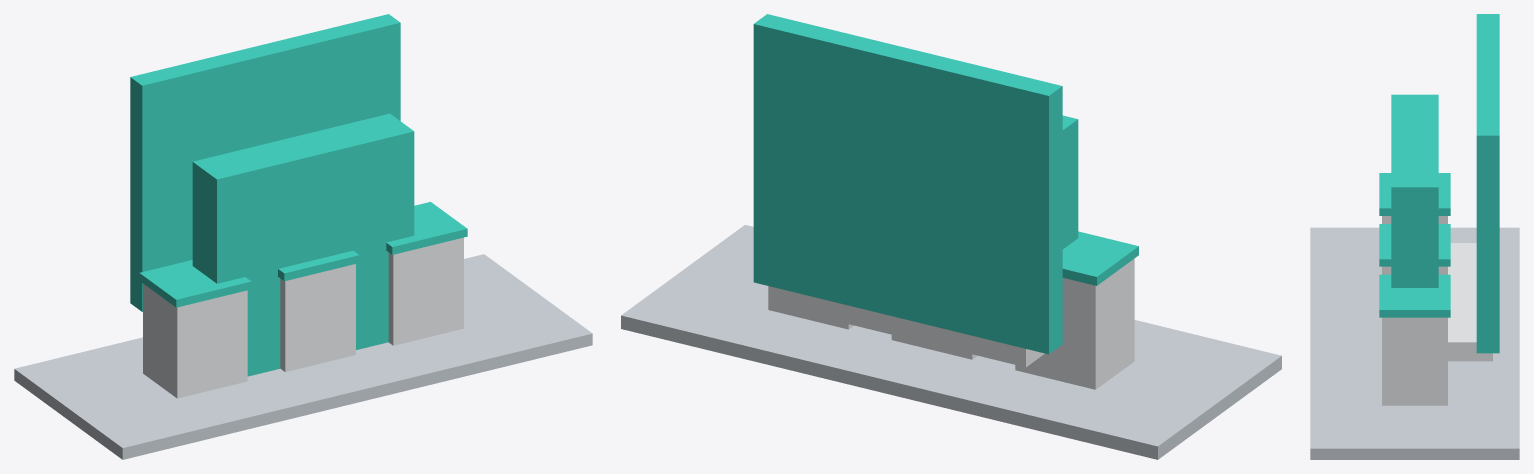
The picture shows the model from 3 angles, left to right: view 1: azimuth 30°, elevation 25°; view 2: azimuth 150°, elevation 25°; view 3: azimuth 270°, elevation 25°; orthographic projection. The views are drawn at different scales.
Visible parts, largest first — view 1: Exhibition Booth Concept; view 2: Exhibition Booth Concept; view 3: Exhibition Booth Concept.
Boxes of the visible parts, left/top/right/bottom form: Exhibition Booth Concept: left=14, top=14, right=592, bottom=459; Exhibition Booth Concept: left=621, top=14, right=1281, bottom=459; Exhibition Booth Concept: left=1310, top=14, right=1519, bottom=459.
Bounding box in the file's own units: 5 × 2.9 × 2.
